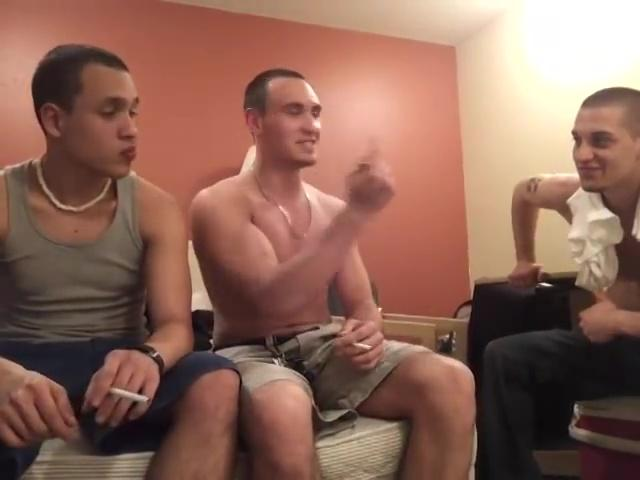cigarette: (111, 387, 153, 406), (349, 340, 376, 352)
